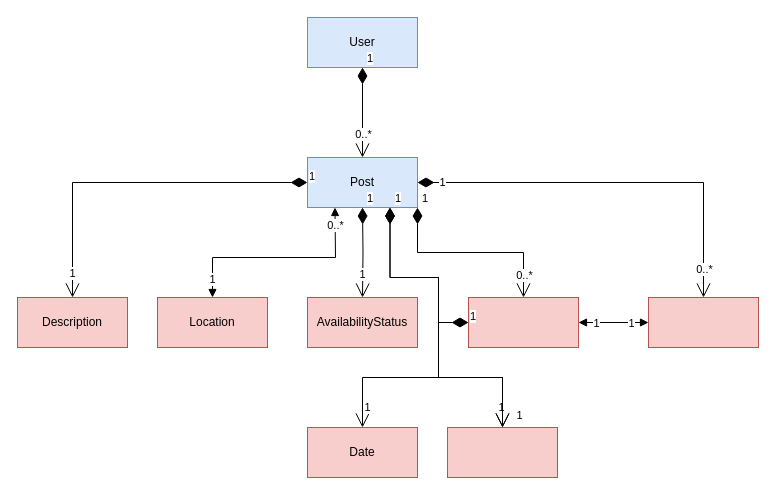
The diagram is 776 pixels wide and 495 high, and some of its shapes have lost their labels. The shapes that lost their labels are listed below. From the top down, each one's box as (x1, y1, x2, y2) in pixels, then its label:
(468, 296, 578, 348): Comment
(648, 296, 758, 348): Image
(446, 426, 558, 478): Time
